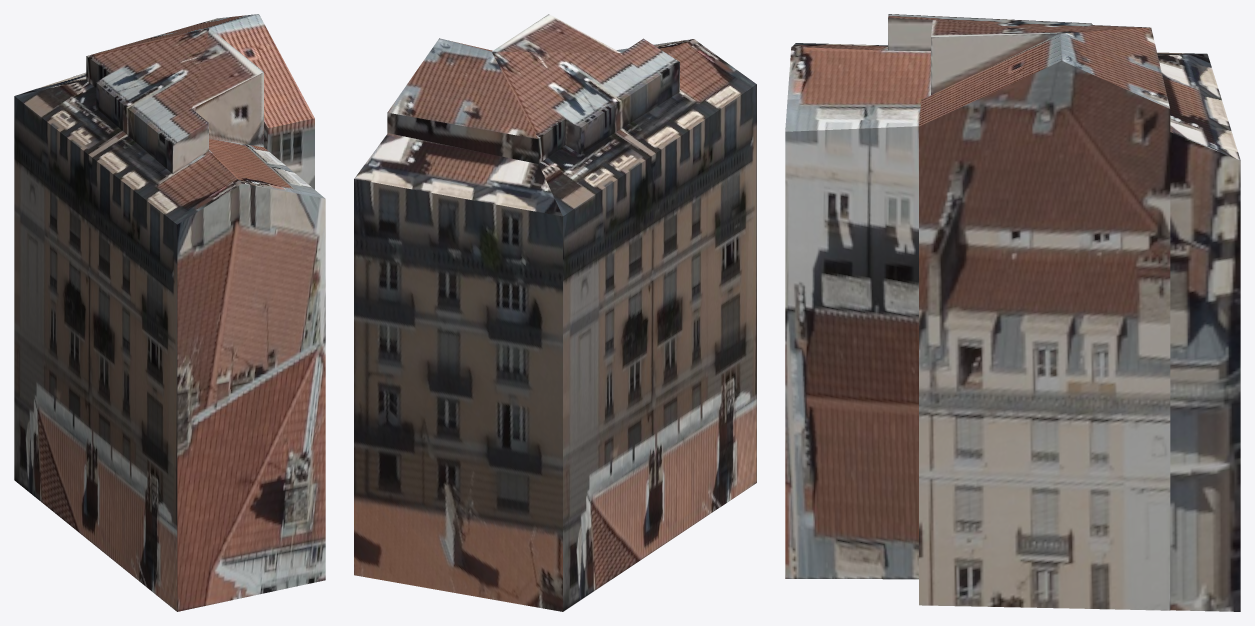
3 views of the same model, side by side, from view 1: azimuth 30°, elevation 25°; view 2: azimuth 150°, elevation 25°; view 3: azimuth 270°, elevation 25° (orthographic). The views are drawn at different scales.
Visible parts, largest first — view 1: Z_UP; view 2: Z_UP; view 3: Z_UP.
Part boxes in pixels (left/top/right/bottom): Z_UP: left=14, top=14, right=325, bottom=611; Z_UP: left=354, top=14, right=756, bottom=611; Z_UP: left=785, top=14, right=1240, bottom=611.
Size of the model in its own units: 11.64 by 25.78 by 19.45.
Materials: 2 (1 with a texture image).
